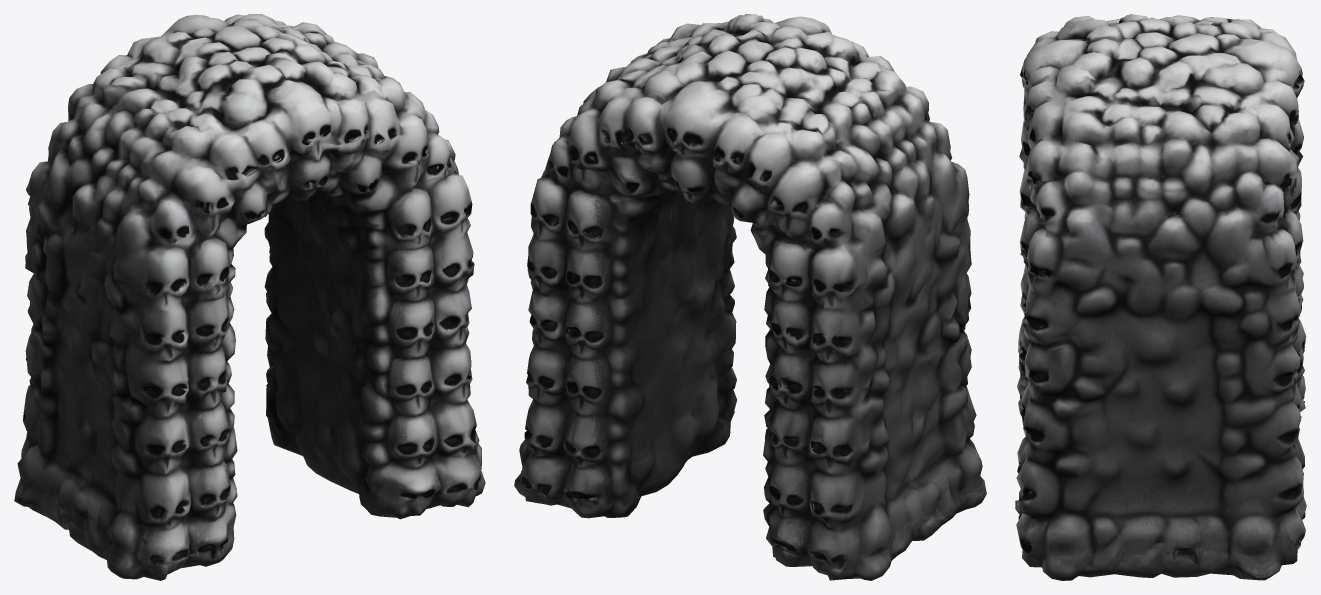
The model's file is ossuary_skull_arch.glb.
The picture shows the model from 3 angles, left to right: view 1: azimuth 30°, elevation 25°; view 2: azimuth 150°, elevation 25°; view 3: azimuth 270°, elevation 25°; orthographic projection.
Bounding box in the file's own units: 1.72 × 2 × 1.15.
1 material, 1 textured.
